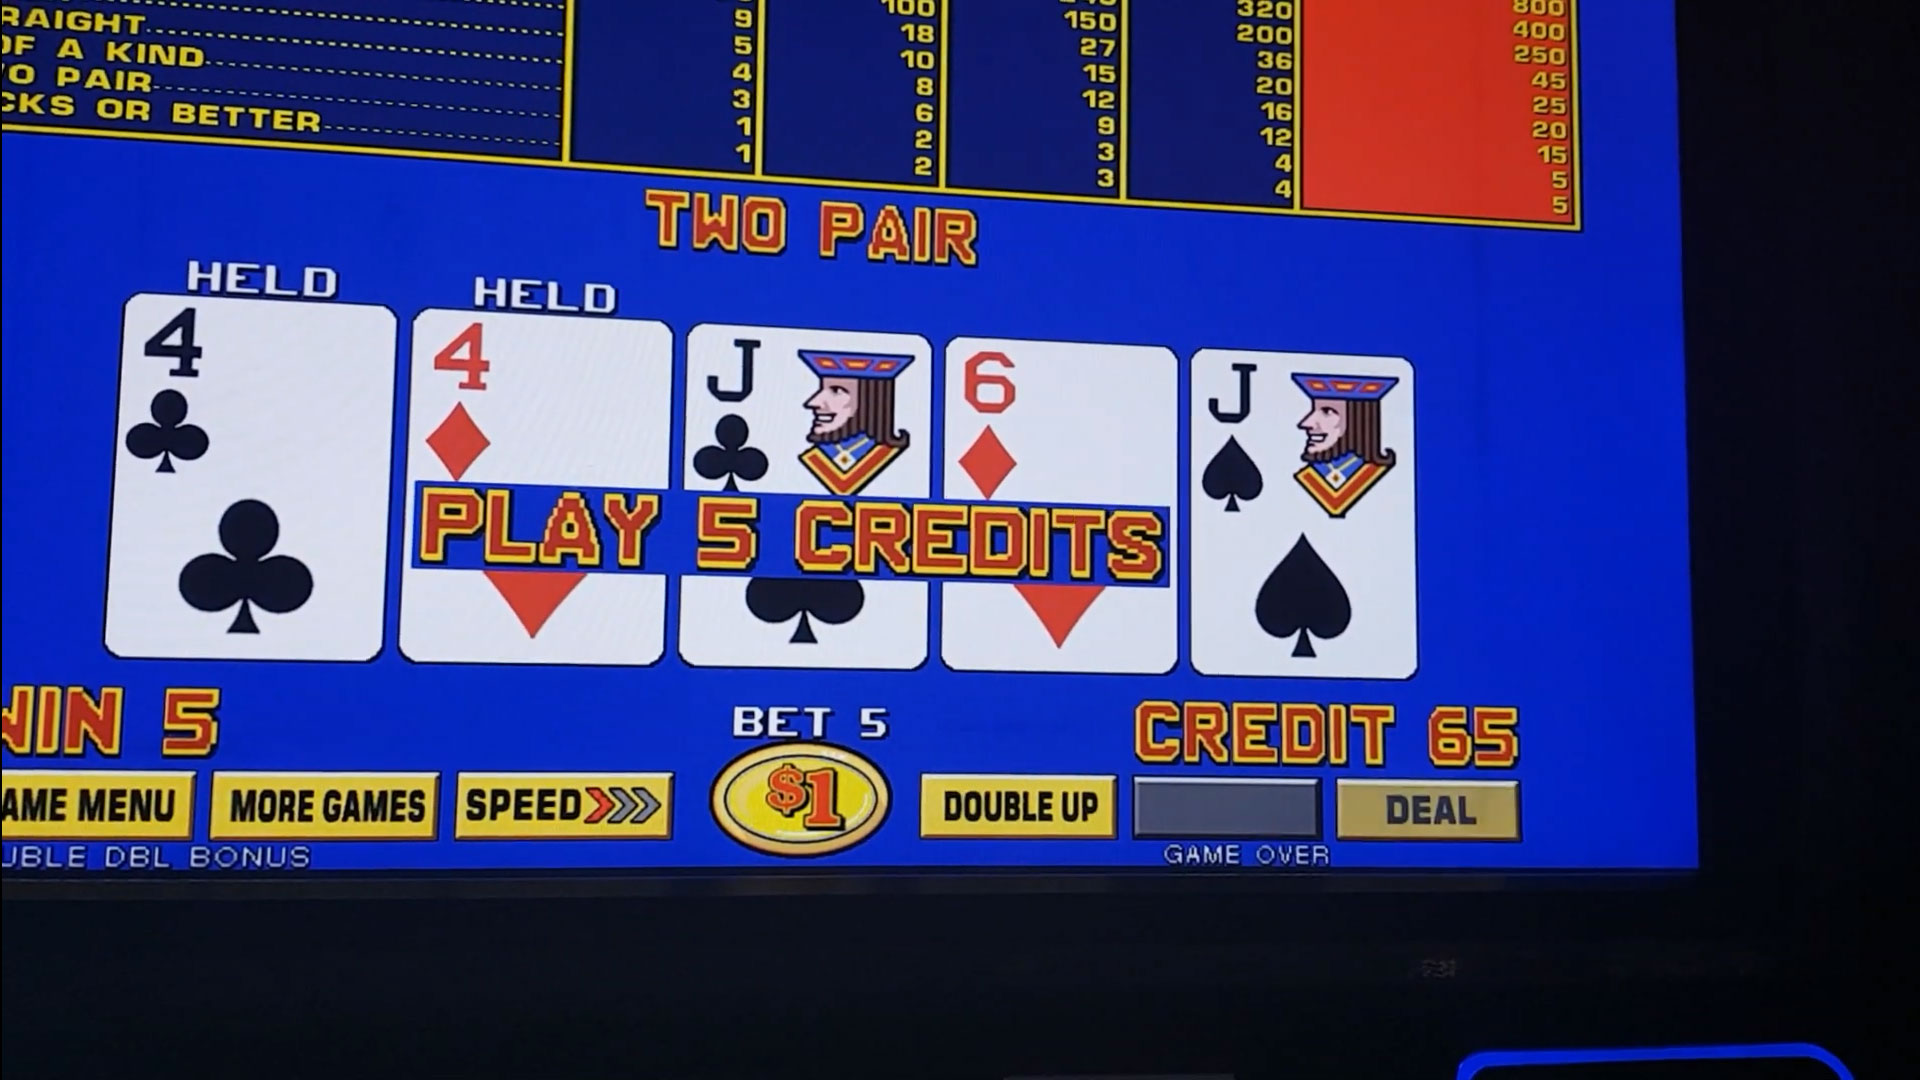C4: (129, 309, 386, 487)
CJ: (692, 340, 927, 487)
D4: (414, 324, 665, 476)
D6: (951, 349, 1170, 498)
SJ: (1196, 357, 1412, 516)
